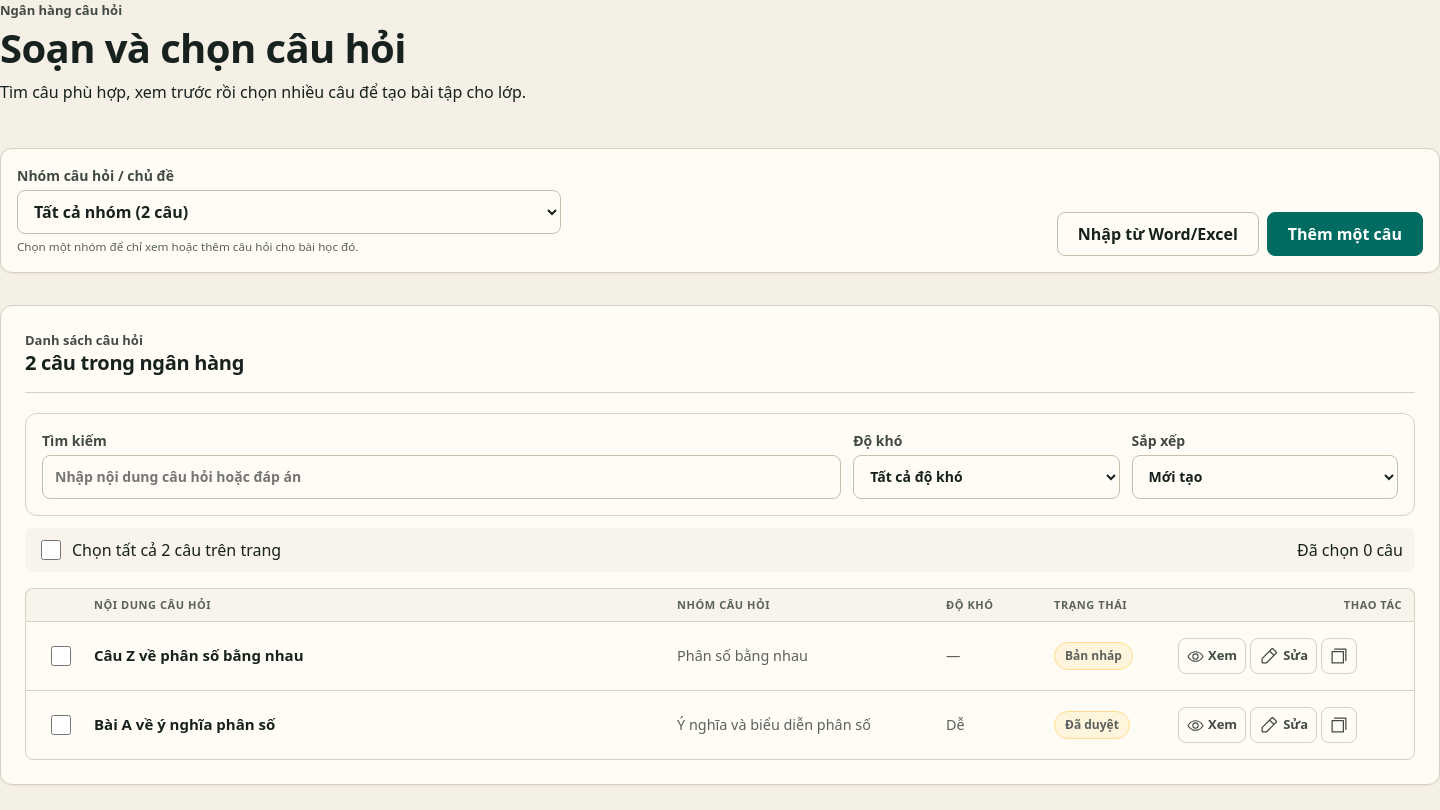
Scenario: Teacher question bank workflow › uses one central group selector and opens the full question editor
Expected: the text "Câu Z về phân số bằng nhau" is shown, left=94, top=645, right=304, bottom=665
Select "Phân số bằng nhau (1 câu)" in the 1st dropdown: (289, 212) left=17, top=190, right=561, bottom=234
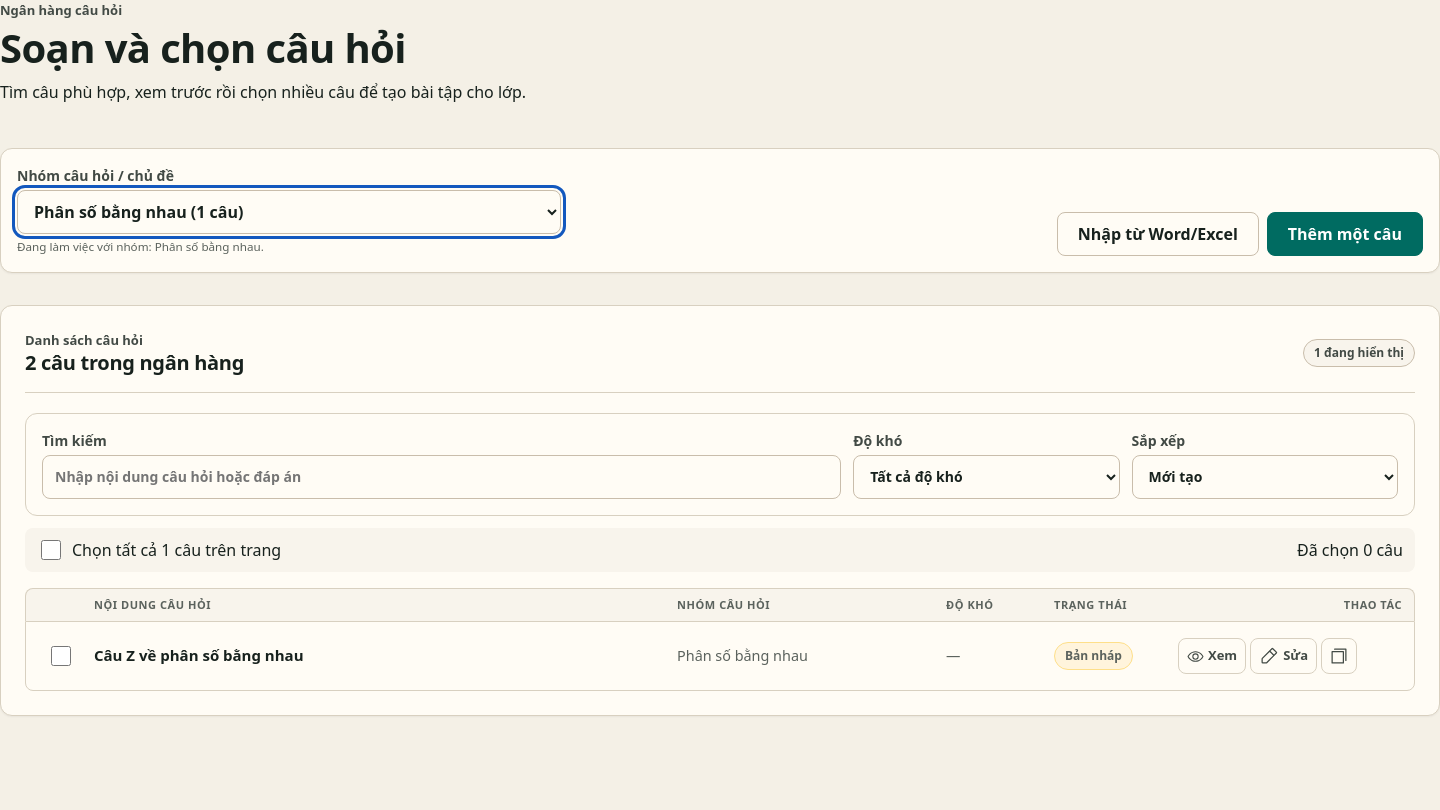
Expected: the text "Câu Z về phân số bằng nhau" is shown, left=94, top=645, right=304, bottom=665
Expected: the text "Bài A về ý nghĩa phân số" is gone
Click the button "Sửa": (1284, 656) left=1250, top=638, right=1317, bottom=674
(page scrolled)
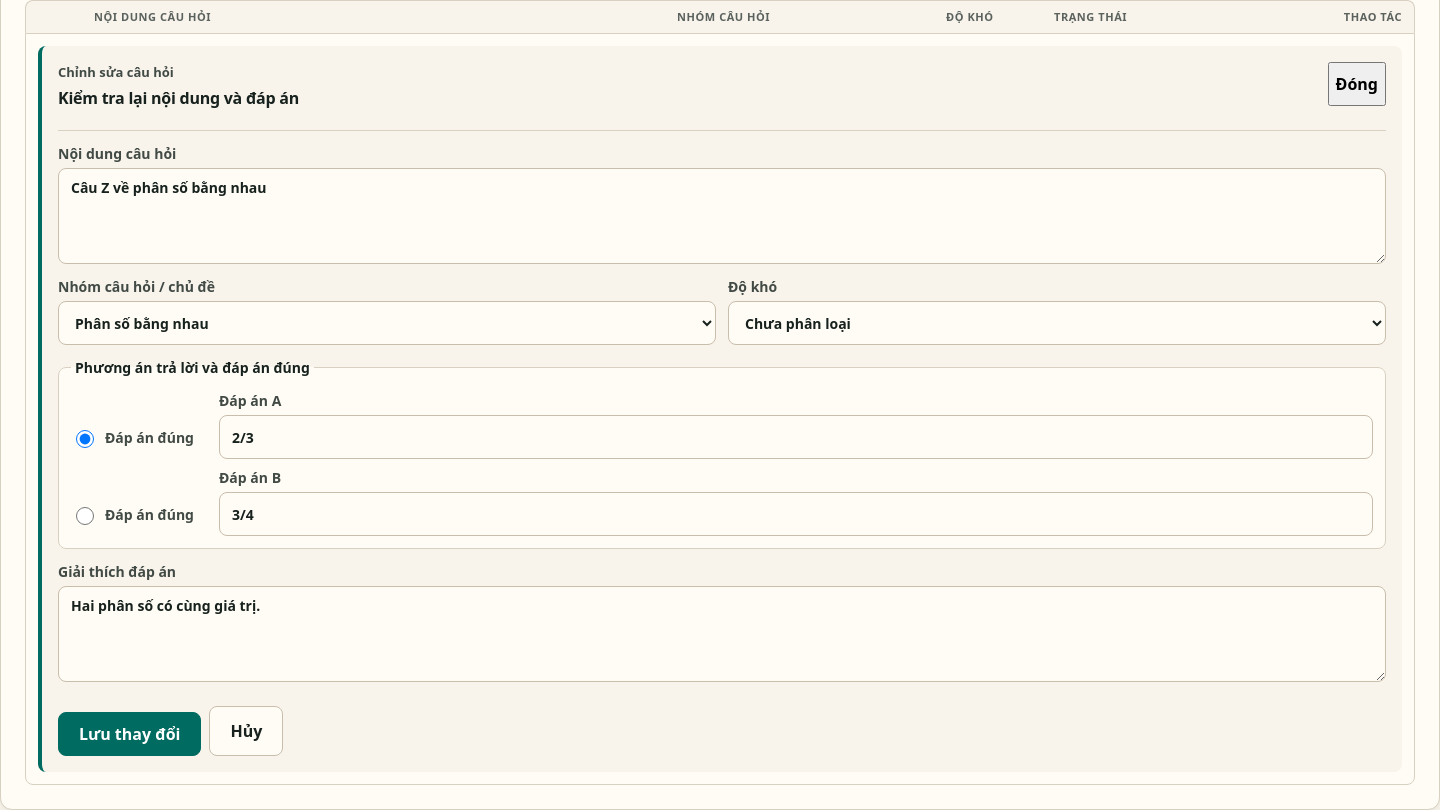
Expected: the heading "Kiểm tra lại nội dung và đáp án" is shown, left=58, top=86, right=299, bottom=110
Expected: the field labelled "Đáp án A" holds "2/3"
Replace the text in the field labelled "Đáp án A" with "4/6": (796, 437) left=219, top=415, right=1373, bottom=459
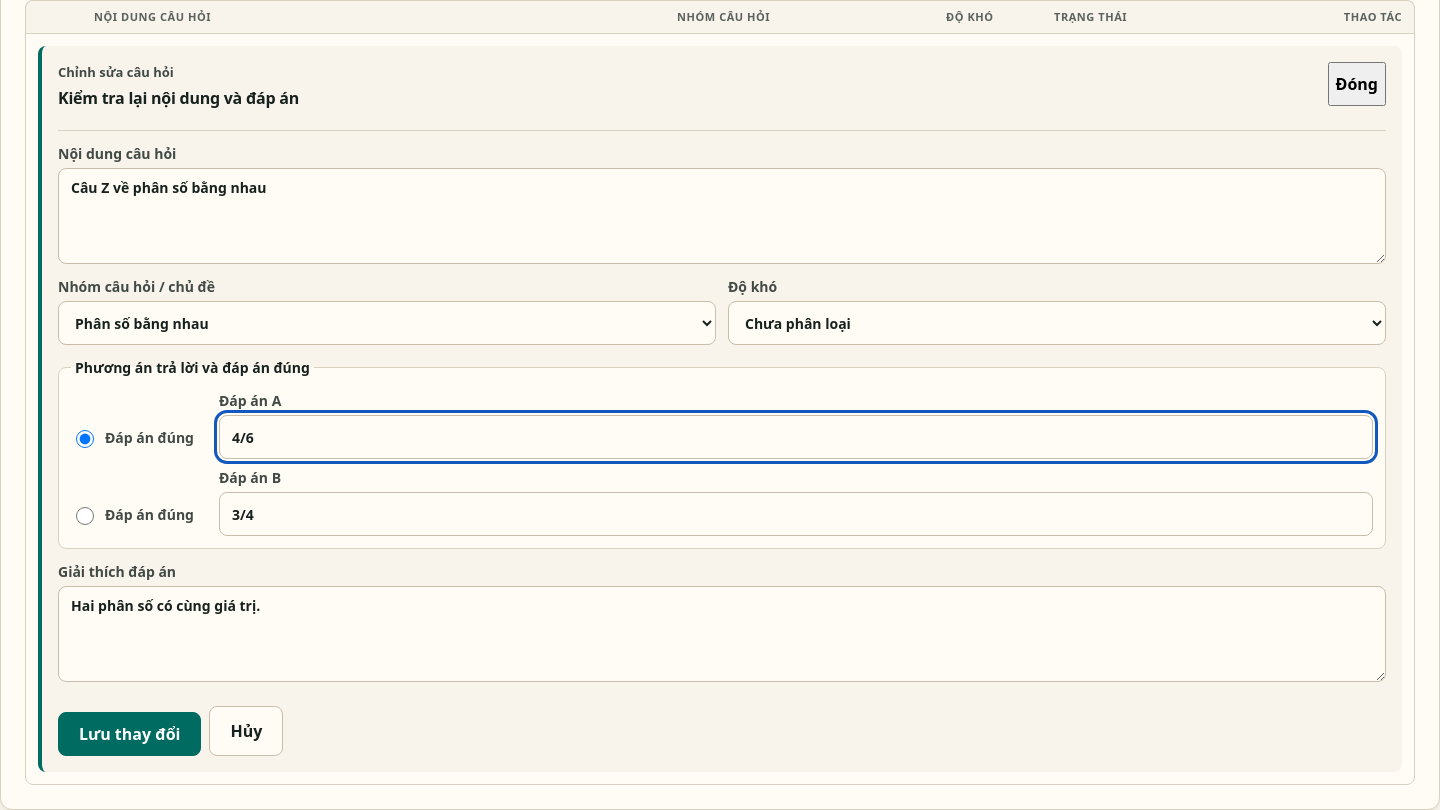
Click the 1st radio button labelled "Đáp án đúng": (85, 438) left=76, top=430, right=94, bottom=448
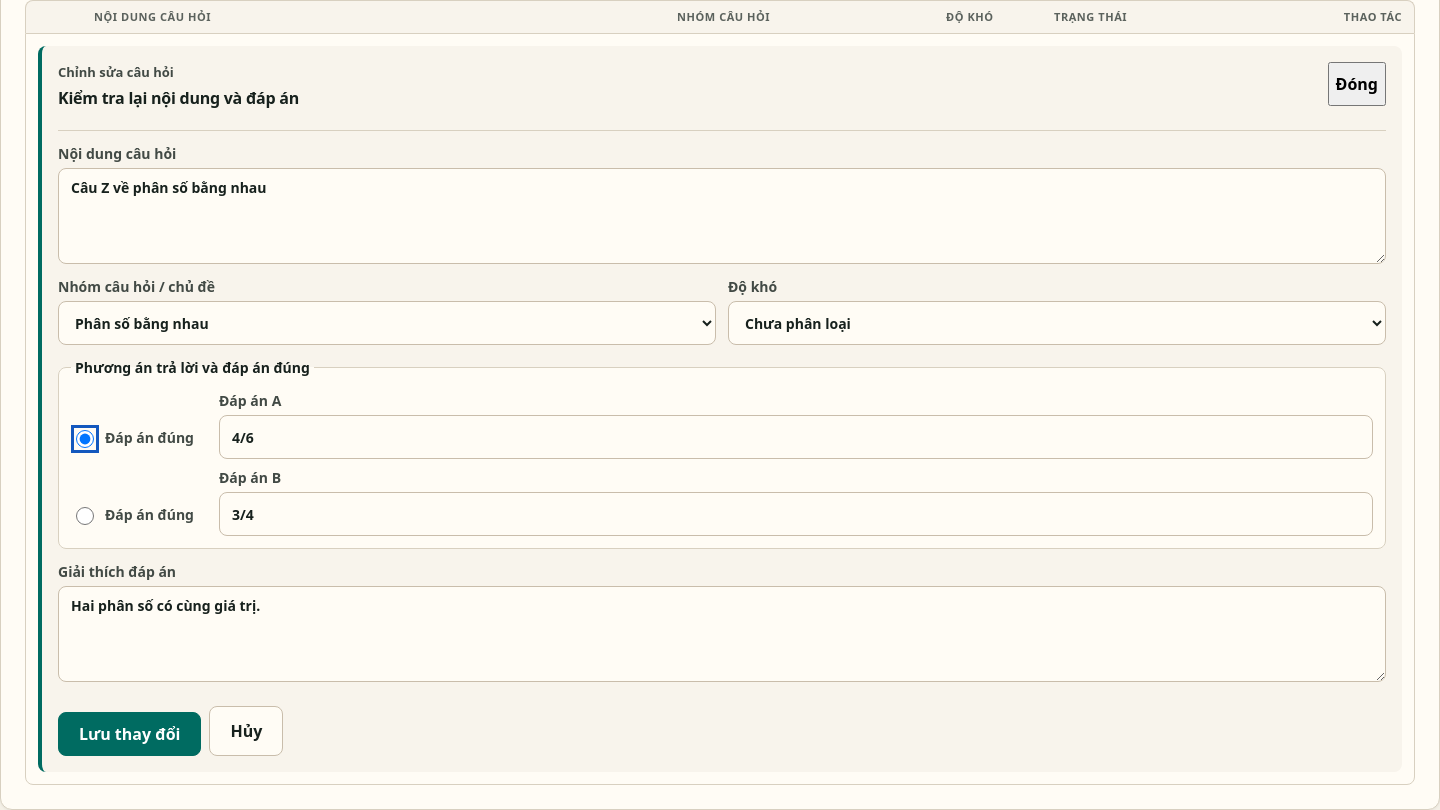
Click the button "Lưu thay đổi": (130, 734) left=58, top=712, right=201, bottom=756
(page scrolled)
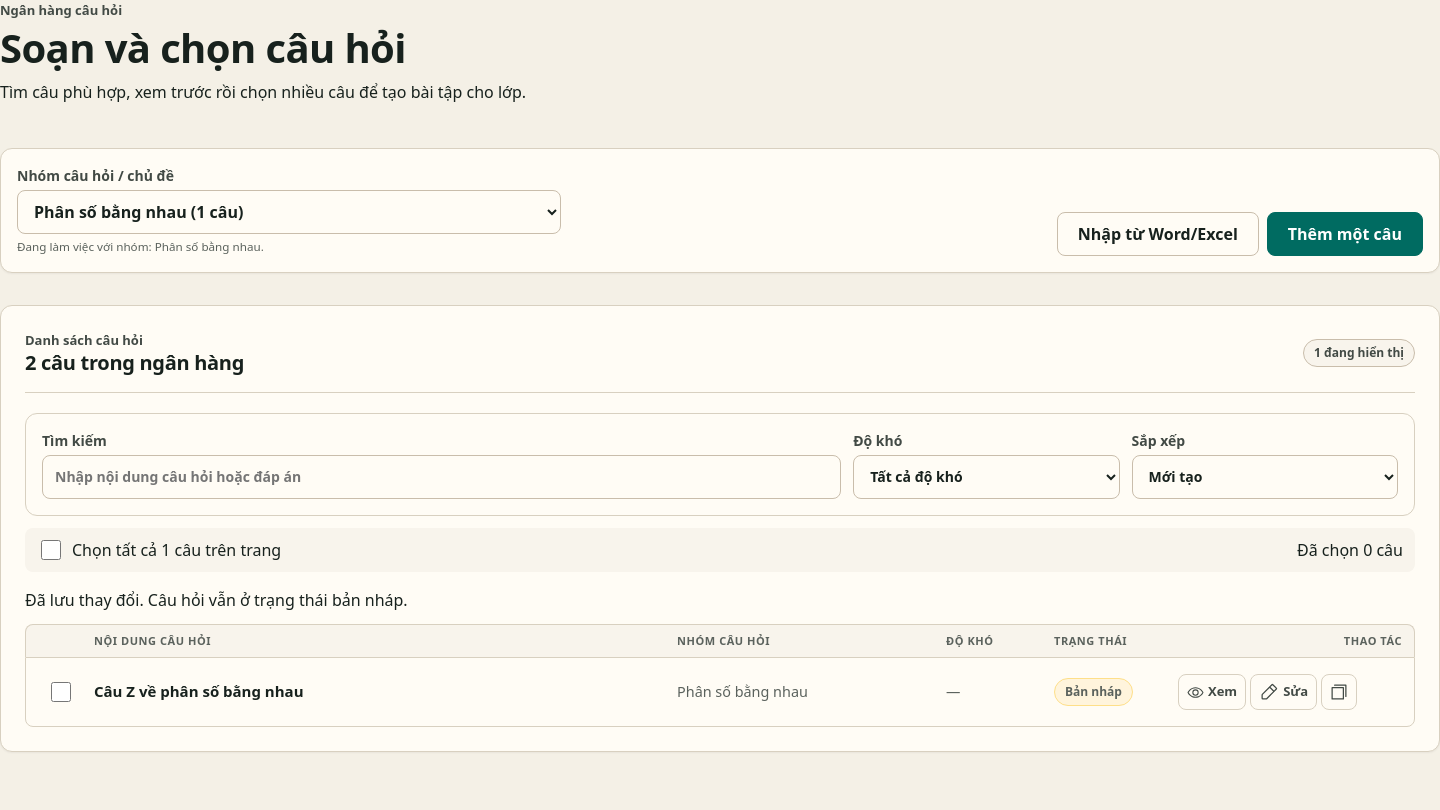
Expected: the text "Đã lưu thay đổi. Câu hỏi vẫn ở trạng thái bản nháp." is shown, left=25, top=588, right=408, bottom=610
